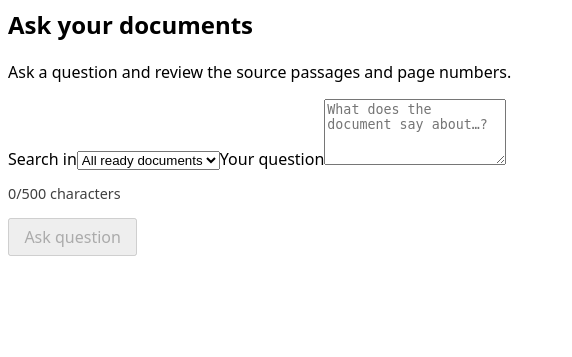
Scenario: AskQuestion › shows the insufficient-evidence answer without claiming sources
In the text box labelled "Your question": [415, 132] box [324,99,506,165], type "What is not covered?"
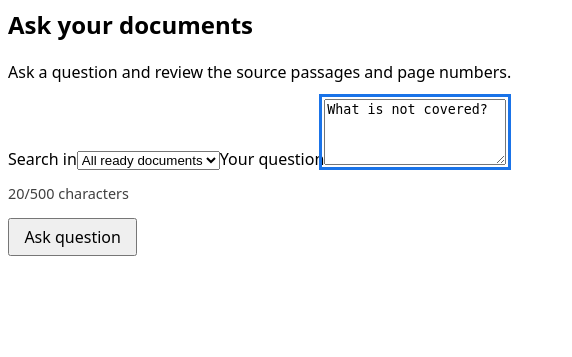
Click the button "Ask question": [73, 237] box [8,218,137,256]
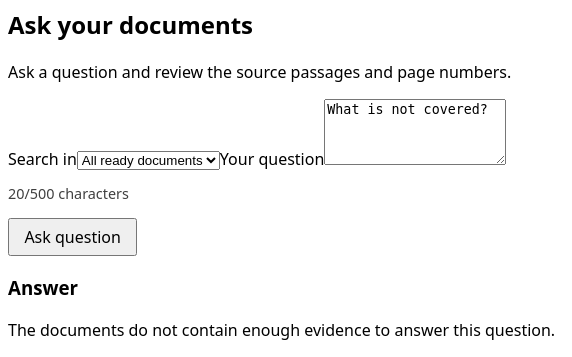
expect the text "The documents do not contain enough evidence to answer this question." is shown: met, box [8,319,555,341]
